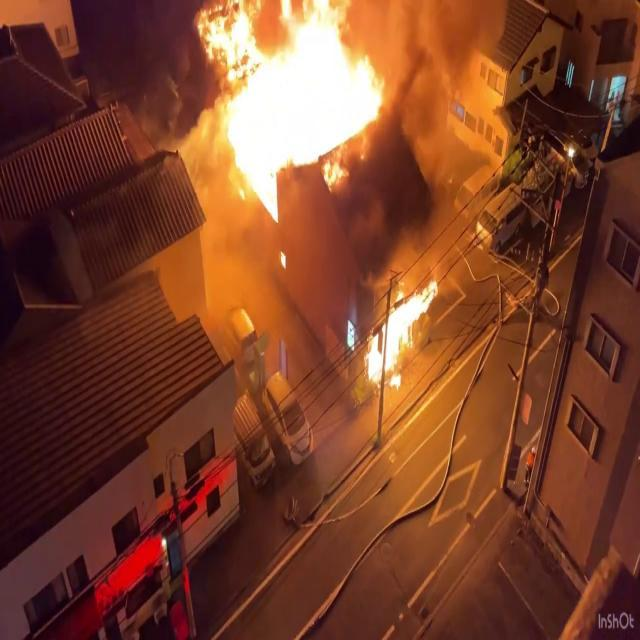Fire: (186, 0, 398, 206), (353, 268, 441, 391)
